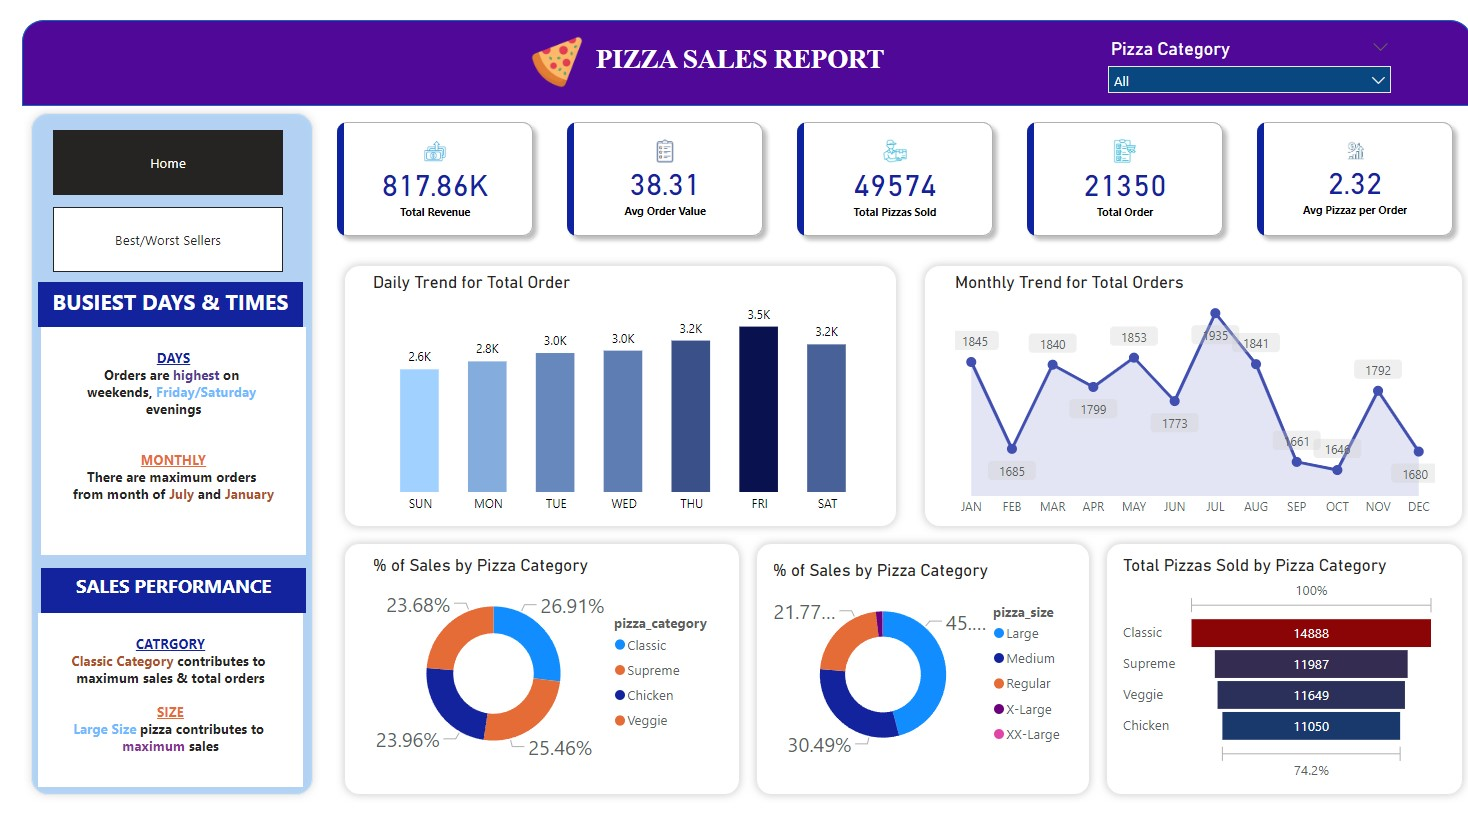

The dashboard page shown, as its layout file describes it:
{"tool":"powerbi","page":{"name":"Home","canvas":[1500,820],"ordinal":0},"visuals":[{"type":"cardVisual","fields":{"Data":["pizza_sales.Total Revenue","pizza_sales.Avg Order Value","pizza_sales.Total Pizzas Sold","pizza_sales.Total Order","pizza_sales.Avg Pizzaz per Order"]},"box":[321.7,105,1153.3,148.3],"z":0},{"type":"shape","box":[24.3,20,1450,85.7],"z":1000},{"type":"textbox","box":[592.9,38.6,312.9,47.1],"z":2000},{"type":"image","box":[508.6,31.4,100,61.4],"z":3000},{"type":"shape","box":[338.3,256.7,568.3,278.3],"z":4000},{"type":"columnChart","title":"Daily Trend for Total Order","fields":{"Category":["pizza_sales.Order Day"],"Y":["pizza_sales.Total Order"]},"box":[370,271.7,511.7,250],"z":5000},{"type":"shape","box":[918.3,256.7,555,278.3],"z":6000},{"type":"areaChart","title":"Monthly Trend for Total Orders","fields":{"Category":["pizza_sales.Order Month"],"Y":["pizza_sales.Total Order"]},"box":[951.7,271.7,490,253.3],"z":7000},{"type":"shape","box":[338.3,535,411.7,268.3],"z":7001},{"type":"shape","box":[750,535,350,268.3],"z":7002},{"type":"shape","box":[1100,535,373.3,268.3],"z":7003},{"type":"donutChart","title":"% of Sales by Pizza Category","fields":{"Category":["pizza_sales.pizza_category"],"Y":["pizza_sales.Total Revenue"]},"box":[370,555,360,218.3],"z":7004},{"type":"slicer","title":"% of Sales by Pizza Category","fields":{"Values":["pizza_sales.pizza_category"]},"box":[1100,32.5,302.5,62.5],"z":7005},{"type":"funnel","title":"Total Pizzas Sold by Pizza Category","fields":{"Category":["pizza_sales.pizza_category"],"Y":["pizza_sales.Total Pizzas Sold"]},"box":[1120,555,323.3,230],"z":7006},{"type":"shape","box":[25,105,297.5,697.5],"z":7007},{"type":"textbox","box":[40,281.7,265,45],"z":7008},{"type":"textbox","box":[43.3,326.7,265,228.3],"z":7009},{"type":"textbox","box":[43.3,568.3,265,45],"z":7010},{"type":"textbox","box":[40,613.3,265,173.3],"z":7011},{"type":"donutChart","title":"% of Sales by Pizza Category","fields":{"Y":["pizza_sales.Total Revenue"],"Category":["pizza_sales.pizza_size"]},"box":[770,560,310,210],"z":7012},{"type":"pageNavigator","box":[55,130,230,65],"z":7013},{"type":"pageNavigator","box":[55,206.7,230,65],"z":7014}]}

Visuals, with their boxes in screenshot pixels (x1, y1, x2, y2), scaled from the page's 1500x820 canvas onto the 1468x819 screenshot:
cardVisual - pizza_sales.Total Revenue x pizza_sales.Avg Order Value: [315,105,1444,253]
shape: [24,20,1443,106]
textbox: [580,39,886,86]
image: [498,31,596,93]
shape: [331,256,887,534]
"Daily Trend for Total Order" columnChart: [362,271,863,521]
shape: [899,256,1442,534]
"Monthly Trend for Total Orders" areaChart: [931,271,1411,524]
shape: [331,534,734,802]
shape: [734,534,1077,802]
shape: [1077,534,1442,802]
"% of Sales by Pizza Category" donutChart: [362,554,714,772]
"% of Sales by Pizza Category" slicer: [1077,32,1373,95]
"Total Pizzas Sold by Pizza Category" funnel: [1096,554,1413,784]
shape: [24,105,316,802]
textbox: [39,281,298,326]
textbox: [42,326,302,554]
textbox: [42,568,302,613]
textbox: [39,613,298,786]
"% of Sales by Pizza Category" donutChart: [754,559,1057,769]
pageNavigator: [54,130,279,195]
pageNavigator: [54,206,279,271]
